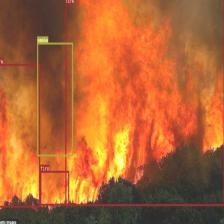fire: (65, 0, 224, 205), (0, 64, 40, 207), (40, 171, 69, 205)
smoke: (37, 43, 73, 156)
